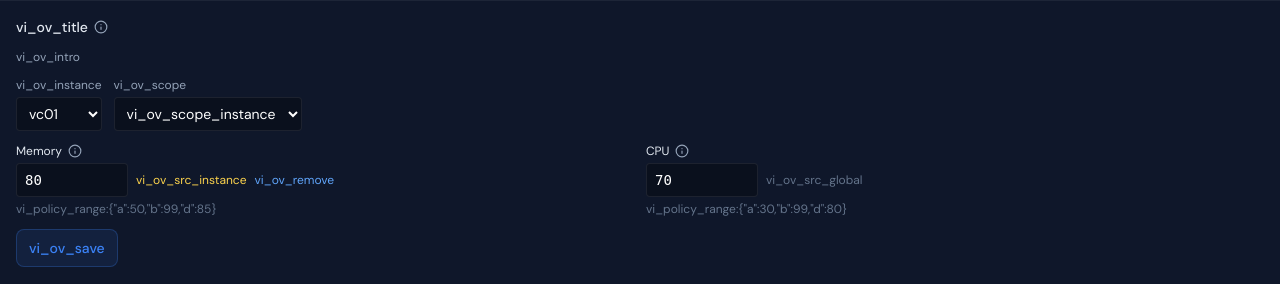
Test: E7 — cluster/instance eşik override arayüzü › değer kaynağını gösterir: cluster override > instance override > genel > varsayılan
Expected: the text with test id "ov-src-memory" reads "vi_ov_src_instance", x1=136 y1=172 x2=246 y2=188
Expected: the text with test id "ov-src-cpu" reads "vi_ov_src_global", x1=766 y1=172 x2=862 y2=188
Select "TEST" in the dropdown with test id "ov-scope": (208, 114) x1=114 y1=97 x2=302 y2=131
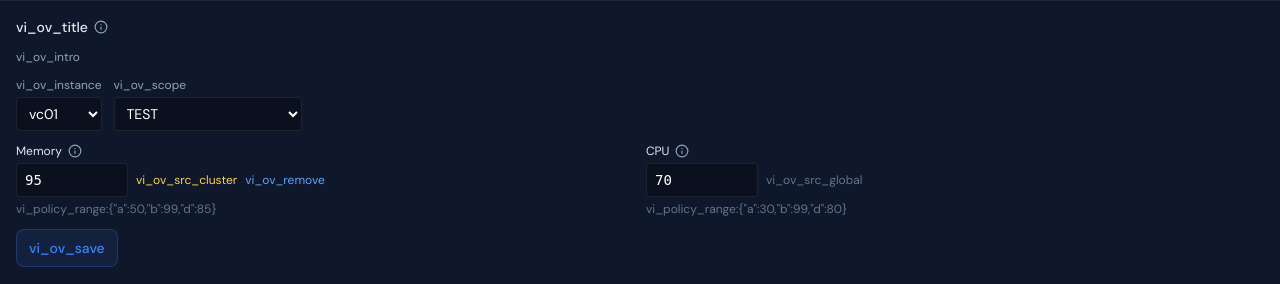
Expected: the text with test id "ov-src-memory" reads "vi_ov_src_cluster", x1=136 y1=172 x2=237 y2=188
Expected: the number field next to "vi_ov_src_cluster" holds "95", x1=16 y1=163 x2=128 y2=197
Select "PROD" in the dropdown with test id "ov-scope": (208, 114) x1=114 y1=97 x2=302 y2=131
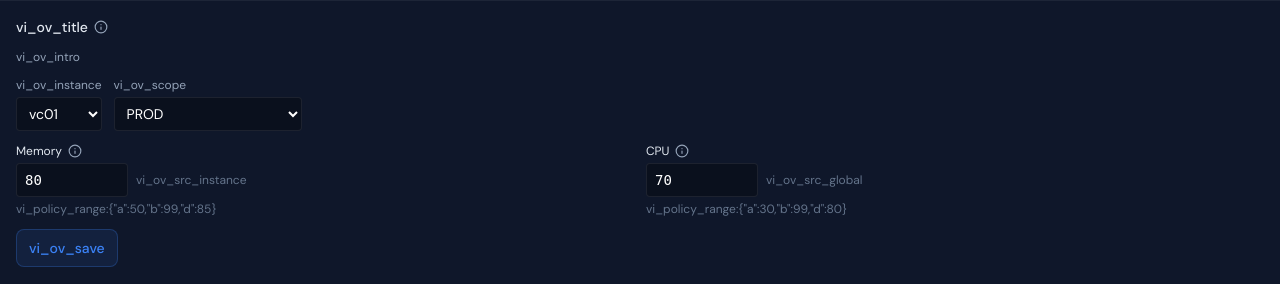
Expected: the text with test id "ov-src-memory" reads "vi_ov_src_instance", x1=136 y1=172 x2=246 y2=188
Expected: the number field next to "vi_ov_src_instance" holds "80", x1=16 y1=163 x2=128 y2=197
